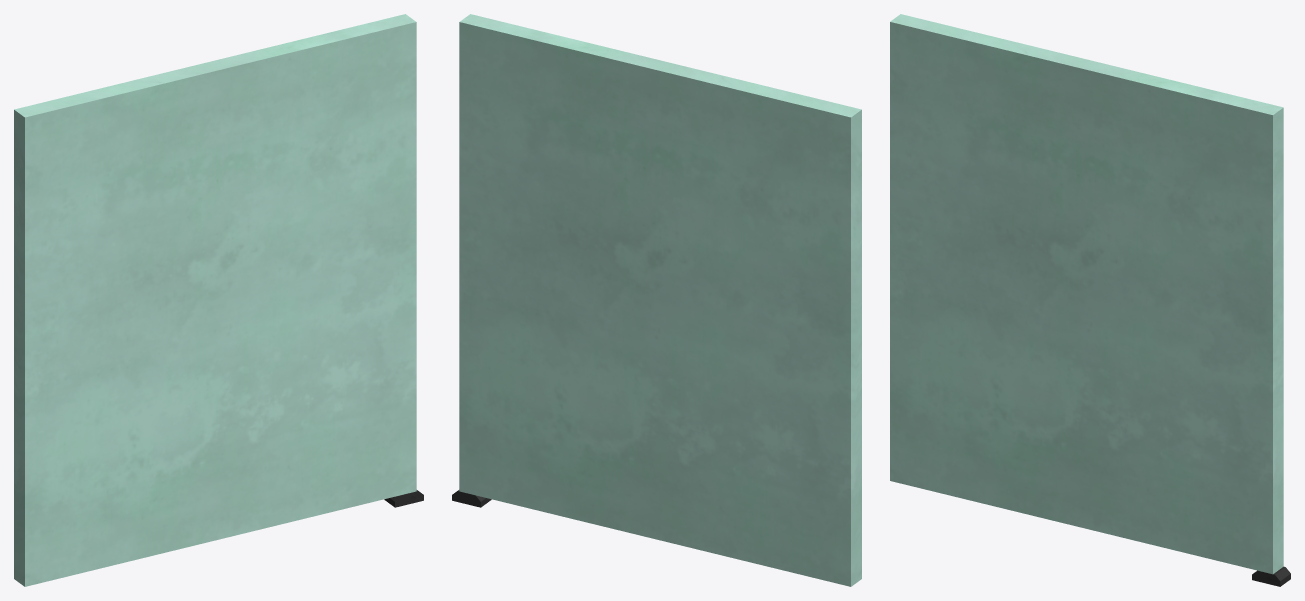
Rendered from cubical.fbx.
The picture shows the model from 3 angles, left to right: view 1: azimuth 30°, elevation 25°; view 2: azimuth 150°, elevation 25°; view 3: azimuth 330°, elevation 25°; orthographic projection. The views are drawn at different scales.
Parts seen in each view (by area): view 1: pCube367; view 2: pCube367; view 3: pCube367.
Part boxes in pixels (<box>): pCube367: <box>14,14,423,586</box>; pCube367: <box>452,14,861,586</box>; pCube367: <box>890,14,1290,586</box>.
Bounding box in the file's own units: 2.91 × 3.35 × 0.1382.
1 material, 1 textured.
